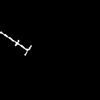double_crochet: (0, 32, 30, 54)
